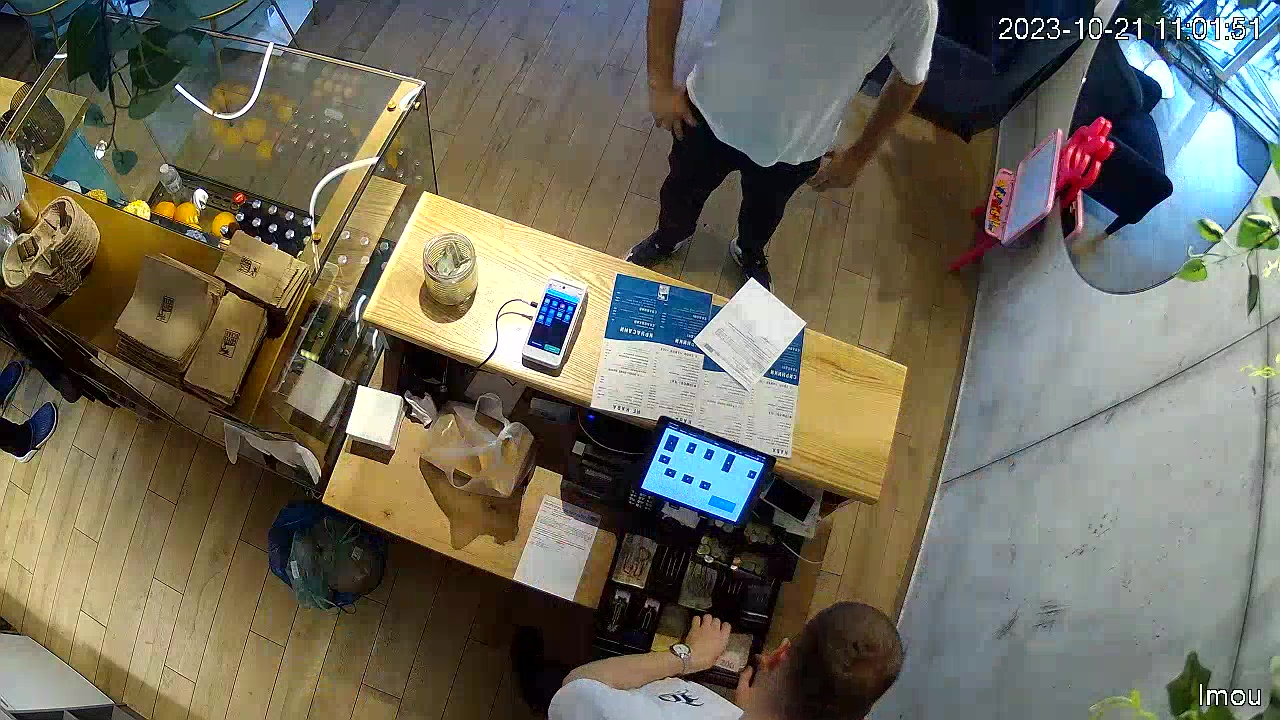openedcash: (605, 511, 782, 693)
